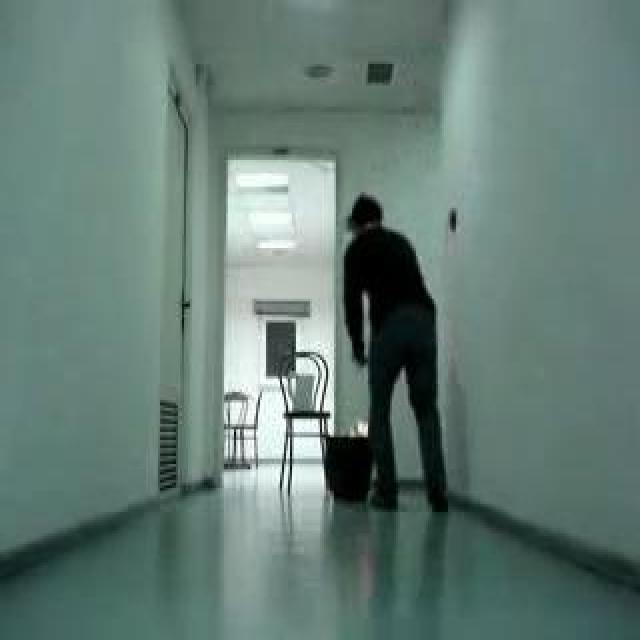Fire: (351, 420, 371, 436)
